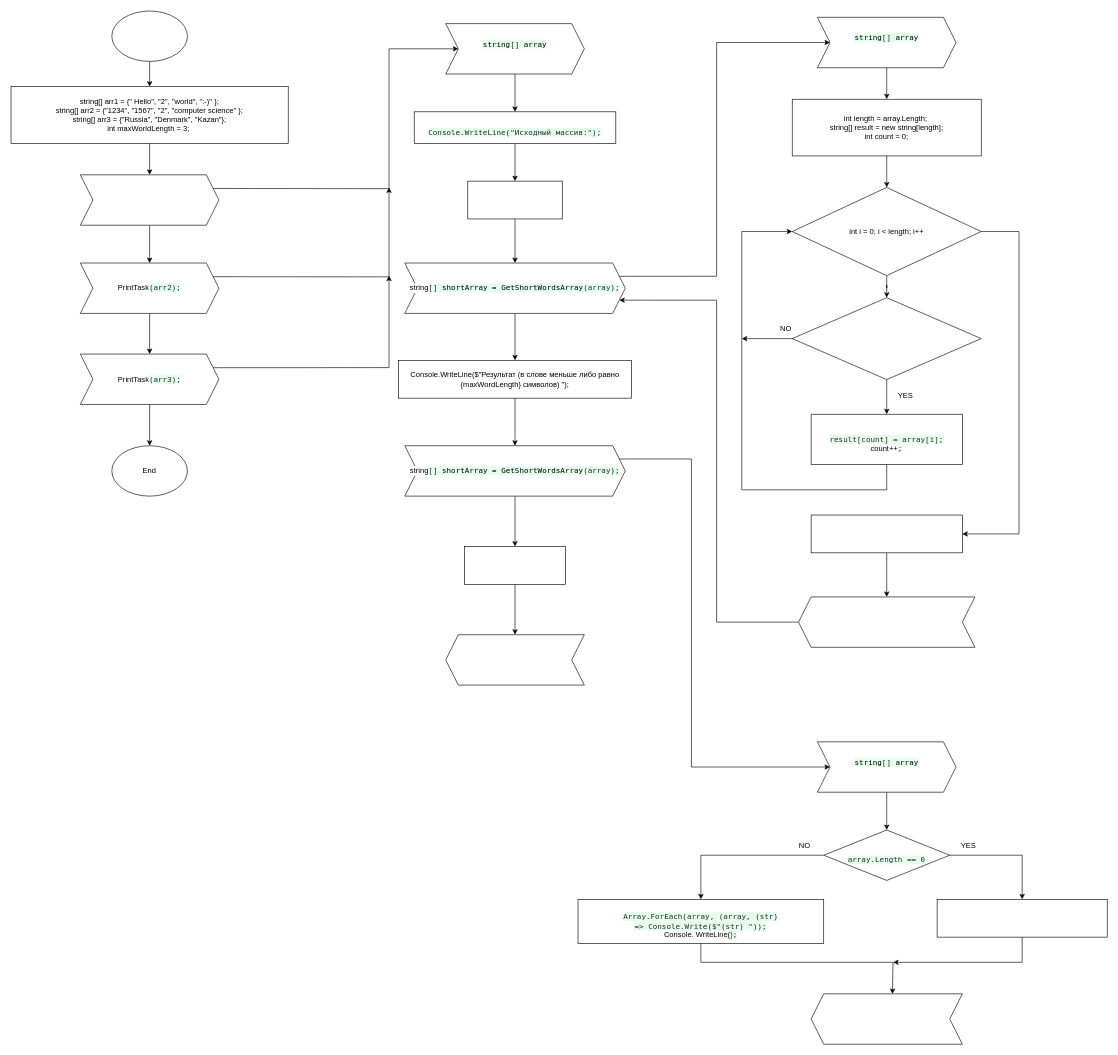
The diagram is 1118 pixels wide and 1055 high, and some of its shapes have lost their labels. Each missing label, with the centre of its shape:
array [ i ]. Length <= maxWordLength: point (886, 338)
Array.Resize(ref result, count);: point (886, 533)
Console.WriteLine("Массив пуст") ;: point (1021, 918)
Console.WriteLine(): point (514, 565)
PrintArray(array);: point (514, 199)
PrintTask(arr1);: point (149, 199)
result: point (886, 621)
START: point (149, 35)
